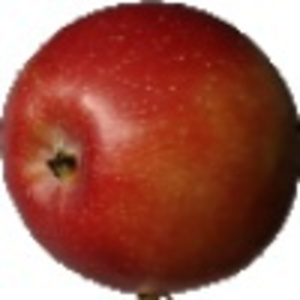maçã braeburn: (1, 1, 299, 295)
